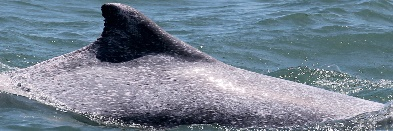fin: (8, 1, 373, 130)
